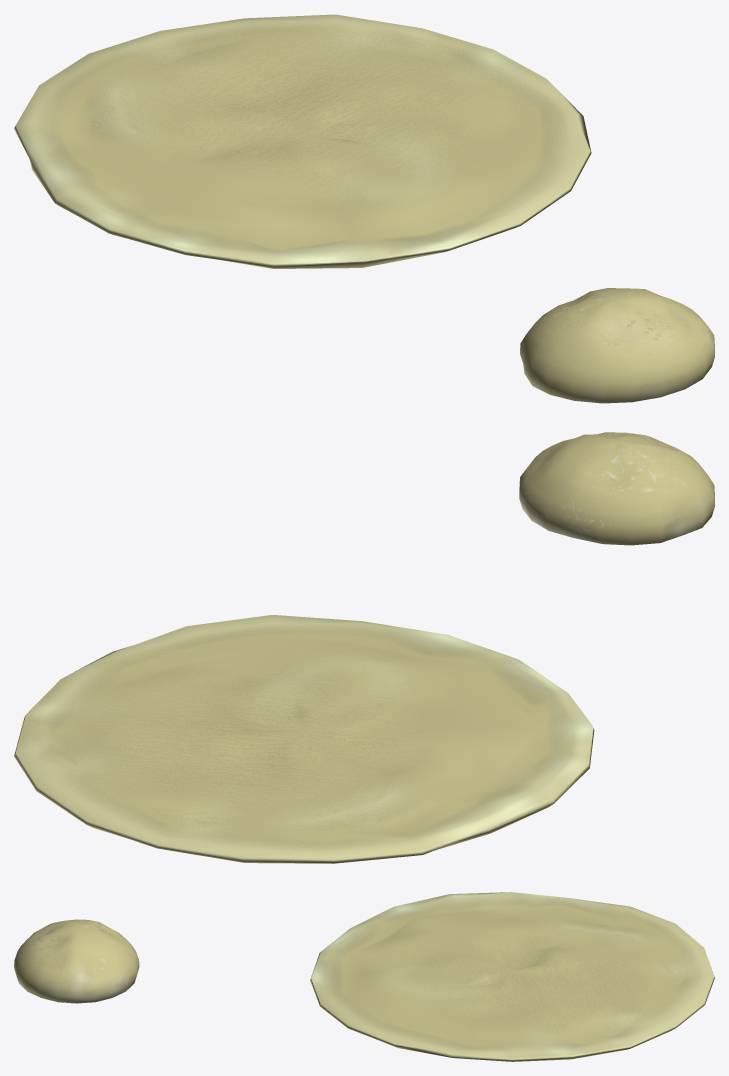
File: pizza_dough (1).glb
3 renders of one model, top to bottom at view 1: azimuth 30°, elevation 25°; view 2: azimuth 150°, elevation 25°; view 3: azimuth 270°, elevation 25°, orthographic. The views are drawn at different scales.
Visible parts, largest first — view 1: Object_2; view 2: Object_2; view 3: Object_2.
Part boxes in pixels (<box>): Object_2: <box>14,14,714,403</box>; Object_2: <box>14,432,714,863</box>; Object_2: <box>14,892,714,1061</box>.
Bounding box in the file's own units: 22.31 × 3.56 × 39.31.
1 material, 1 textured.
